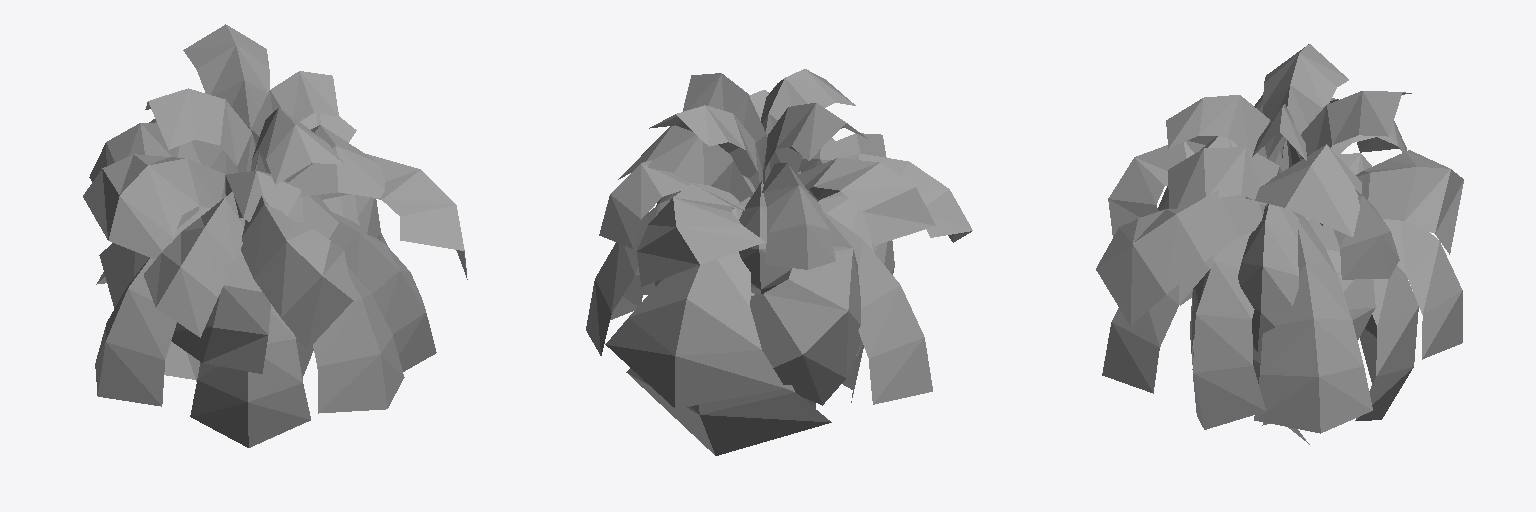
The model's file is PalmTreeLeaf.obj.
The picture shows the model from 3 angles: view 1: azimuth 30°, elevation 25°; view 2: azimuth 150°, elevation 25°; view 3: azimuth 270°, elevation 25°; orthographic projection.
Visible parts, largest first — view 1: PalmTree_single_leafs_1sided; view 2: PalmTree_single_leafs_1sided; view 3: PalmTree_single_leafs_1sided.
Part boxes in pixels (x1,y1,x2,y2): PalmTree_single_leafs_1sided: (83, 24, 467, 447); PalmTree_single_leafs_1sided: (586, 69, 972, 455); PalmTree_single_leafs_1sided: (1096, 44, 1463, 444).
Size of the model in its own units: 106 by 112 by 104.